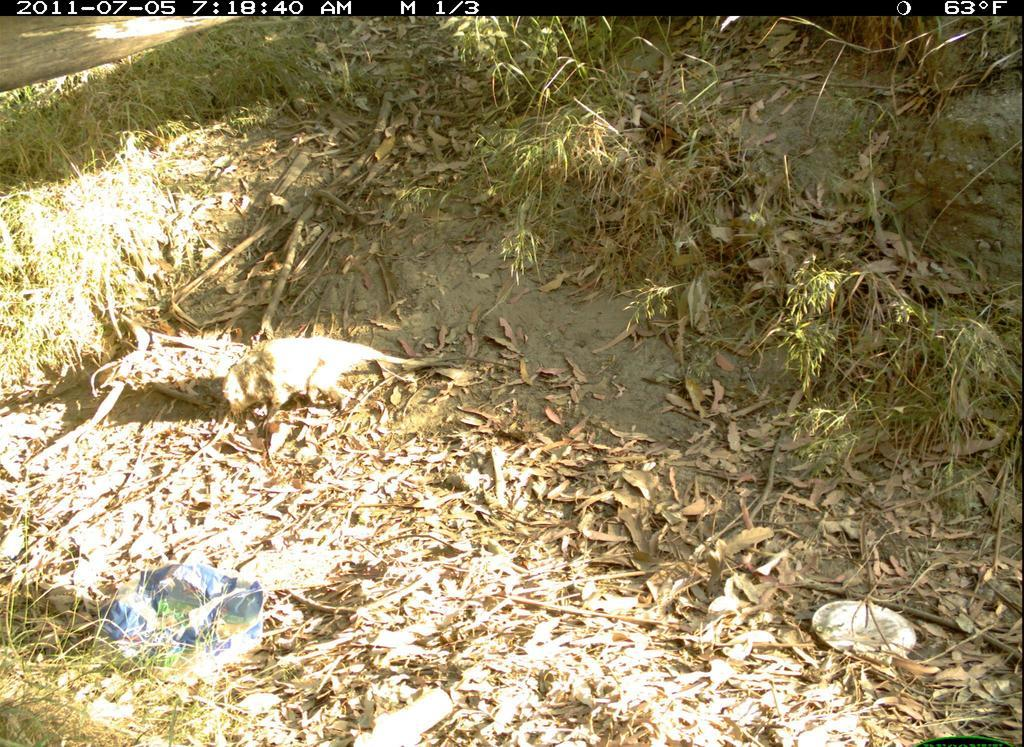opossum: (216, 326, 479, 434)
